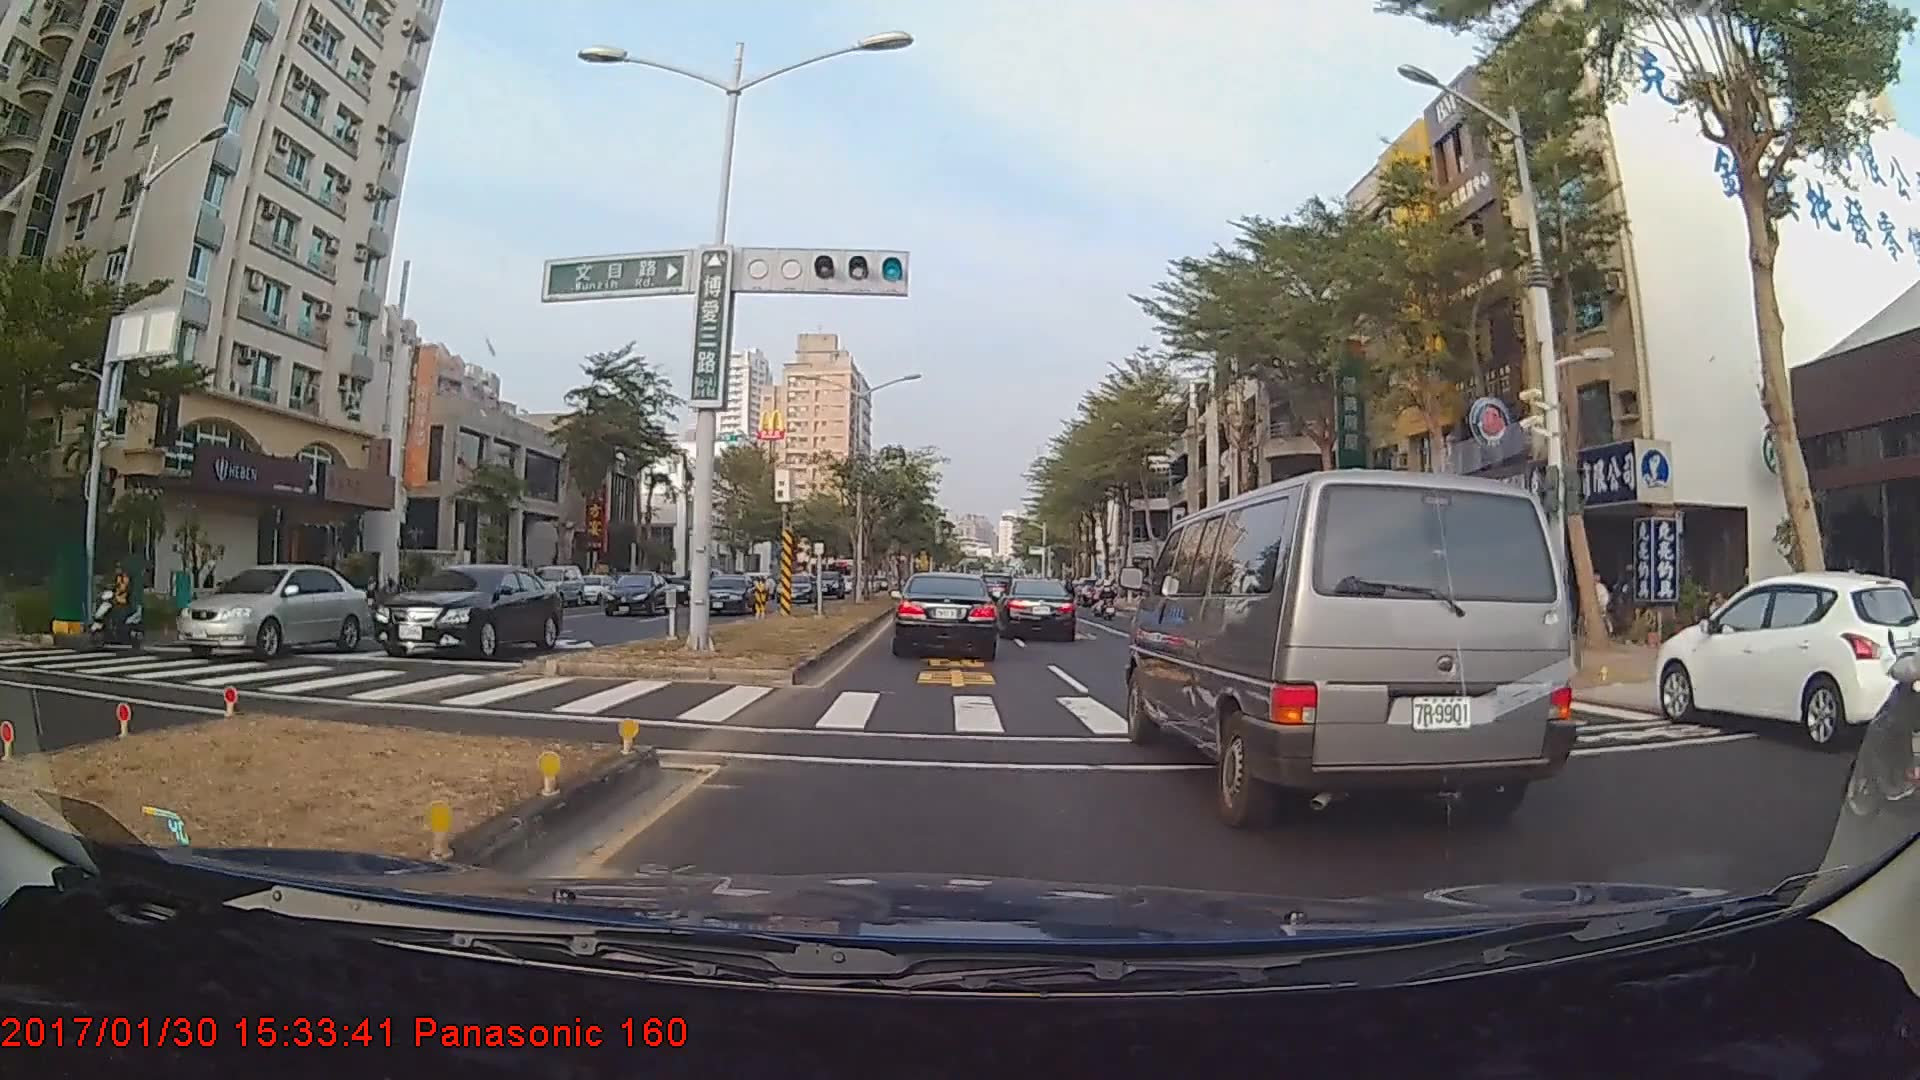rider: (1825, 555, 1920, 819), (83, 570, 153, 654)
vehicle: (1138, 458, 1583, 825), (1653, 570, 1918, 747), (172, 562, 366, 661), (369, 562, 566, 659), (893, 573, 999, 660), (999, 577, 1076, 642), (601, 568, 669, 617), (526, 563, 584, 607), (697, 573, 756, 614), (775, 573, 815, 603)
